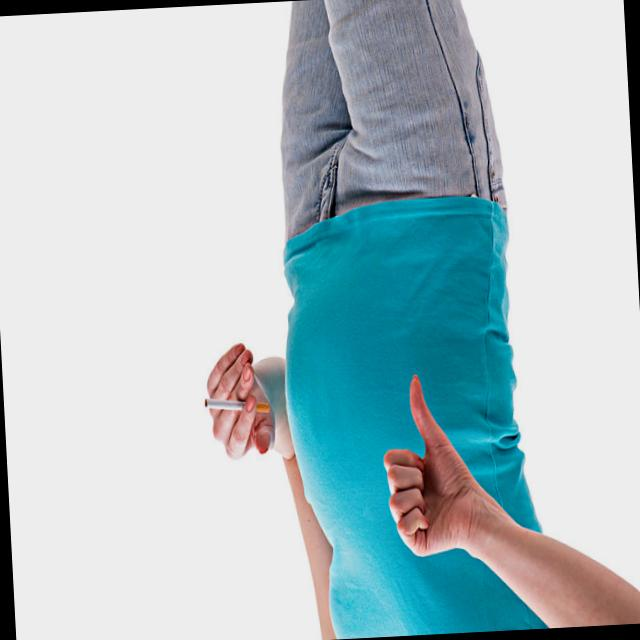smoke: (203, 393, 245, 421)
